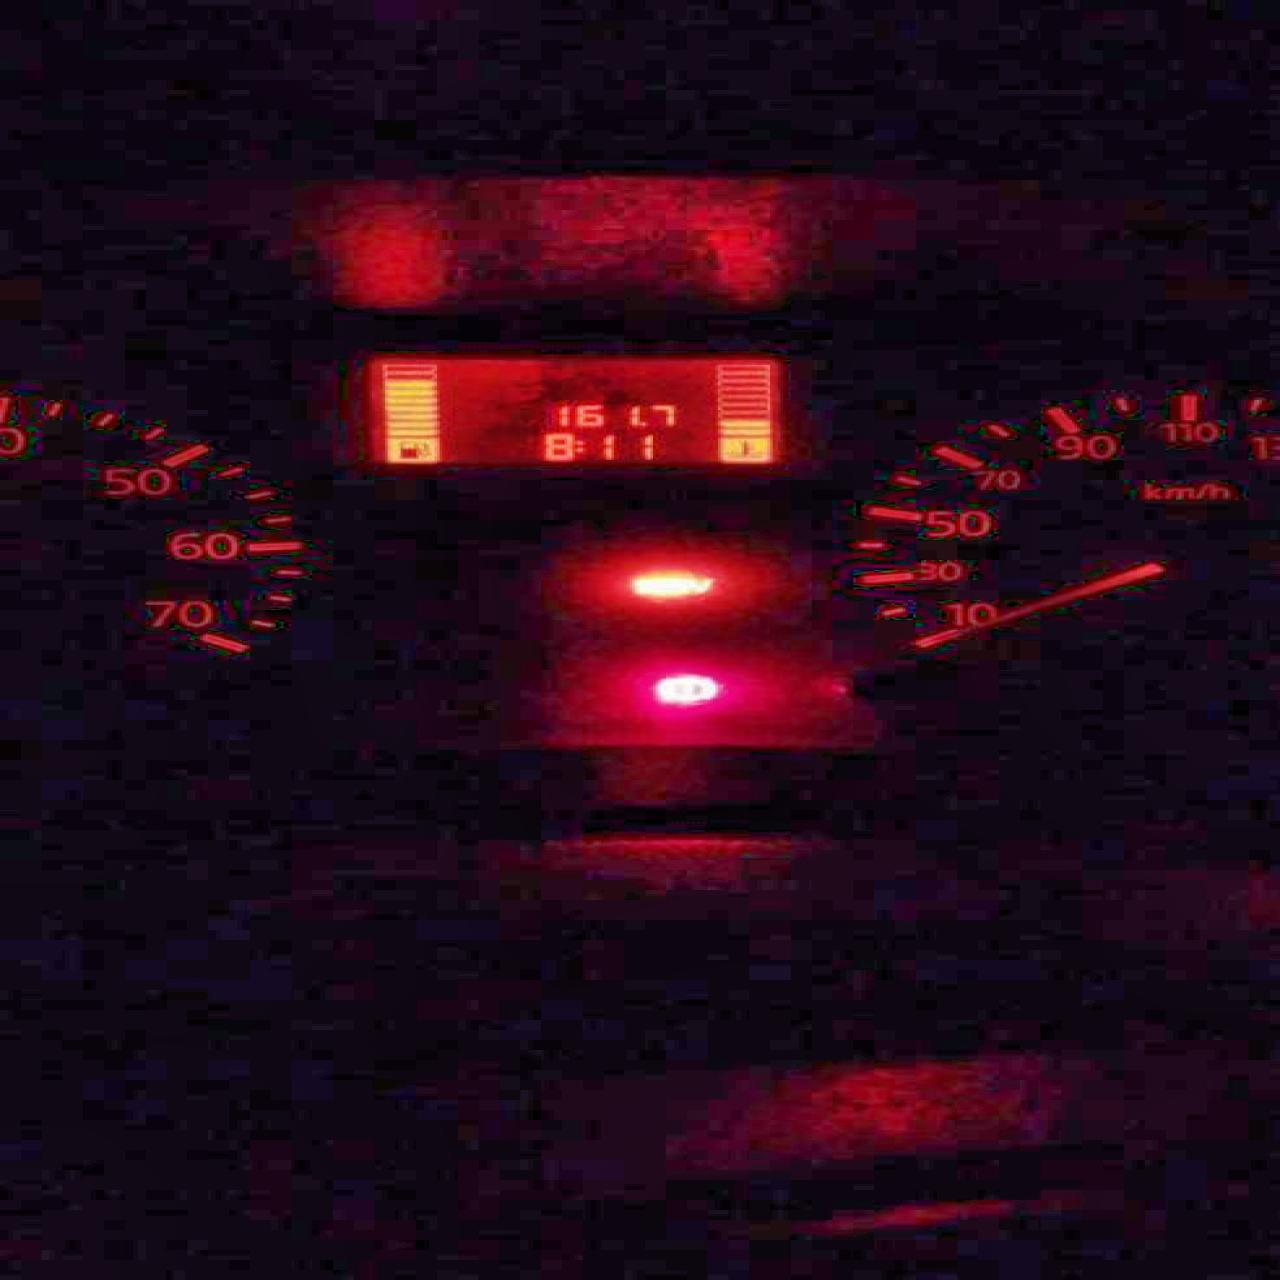-: (638, 420, 646, 425)
1: (599, 431, 617, 459), (640, 431, 655, 459), (554, 402, 570, 427), (625, 402, 638, 429)
6: (572, 402, 601, 427)
7: (651, 403, 676, 425)
8: (542, 430, 572, 459)
X: (572, 437, 583, 454)
odometer: (362, 355, 791, 468)
